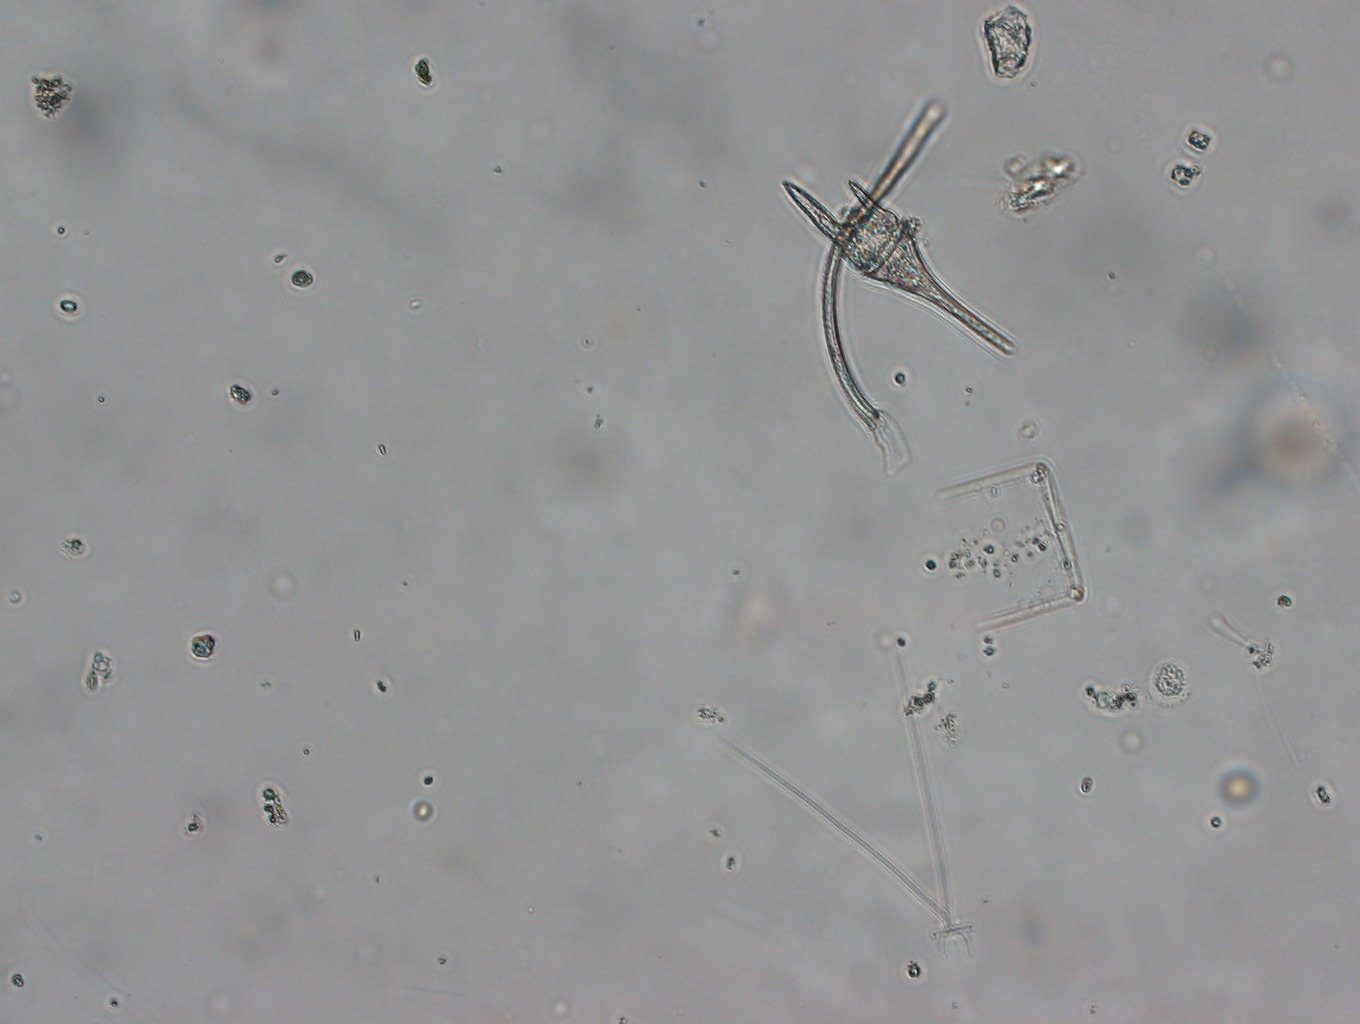ceratium furca: (776, 169, 1023, 359)
